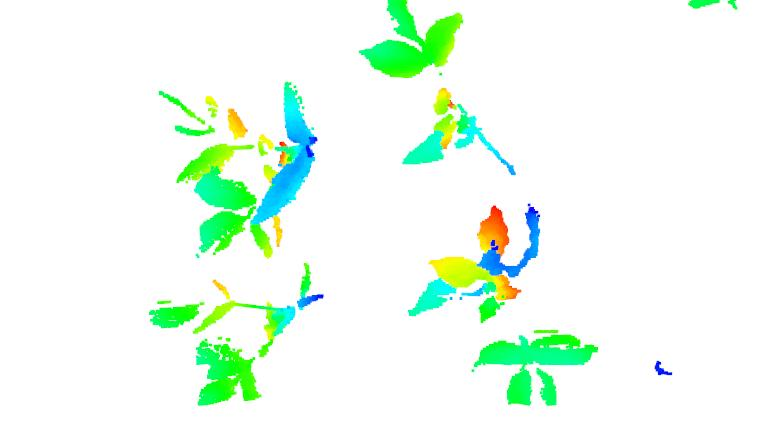mungbean: (404, 200, 602, 410), (155, 76, 320, 258), (356, 1, 520, 182), (144, 262, 327, 411)
